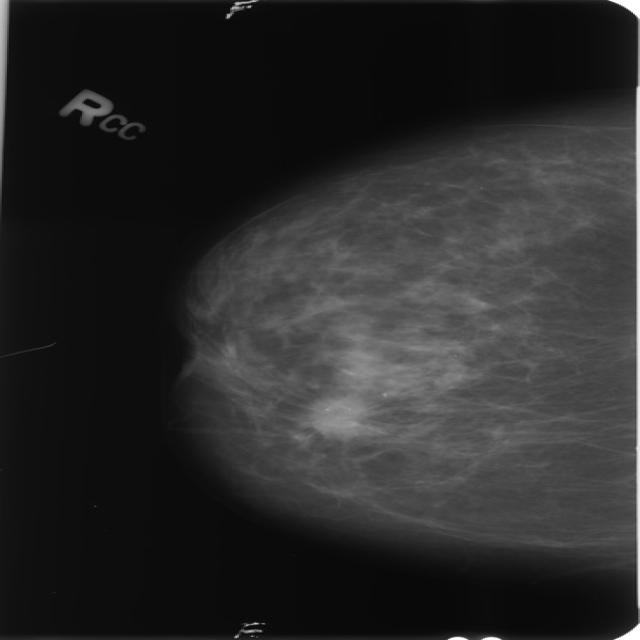tumour: (304, 392, 364, 436)
